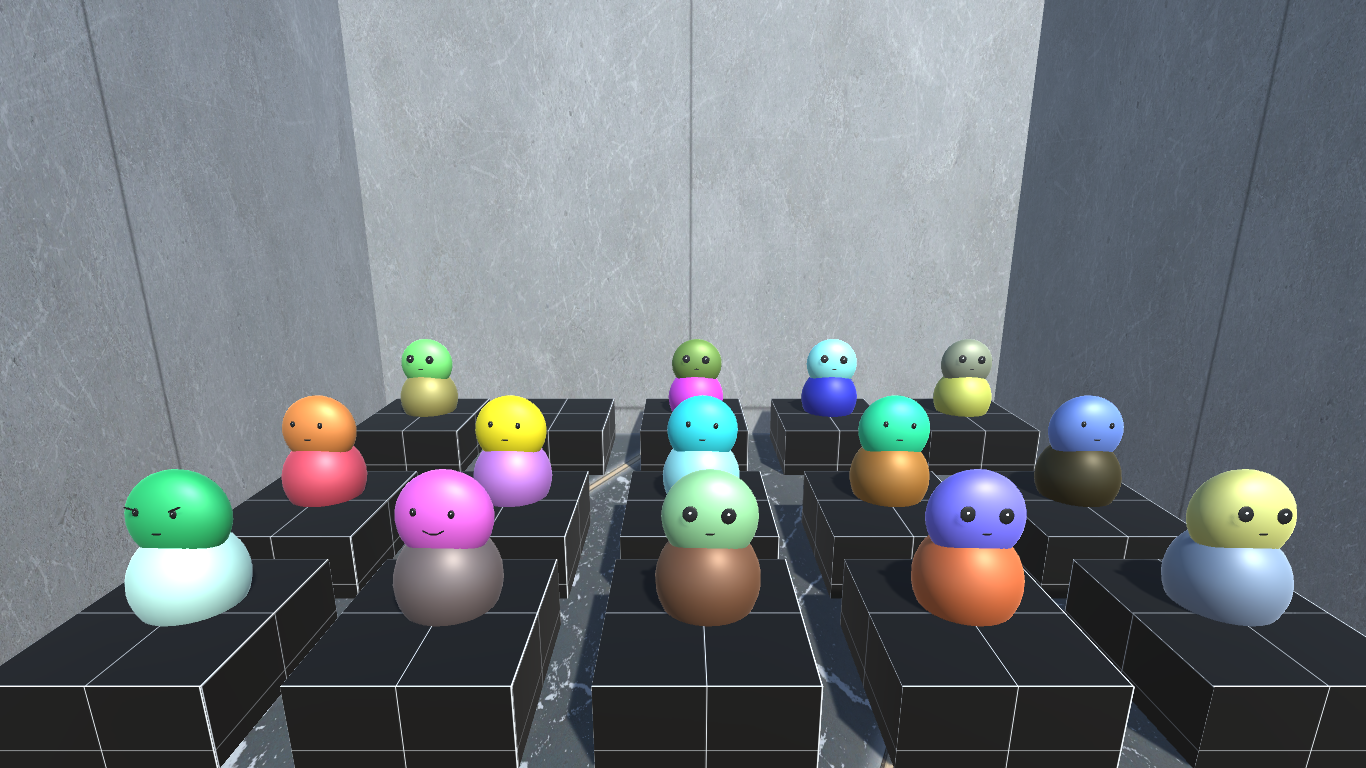blob_atento: (1163, 463, 1302, 640), (911, 473, 1038, 635), (652, 470, 770, 627), (932, 340, 999, 418), (400, 338, 460, 416), (665, 337, 730, 409), (803, 338, 863, 416)
blob_feliz: (391, 472, 506, 623)
blob_normal: (273, 393, 373, 509), (1037, 390, 1123, 513), (657, 393, 752, 499), (469, 394, 558, 507), (850, 391, 927, 517)
blob_raiva: (119, 467, 249, 624)
